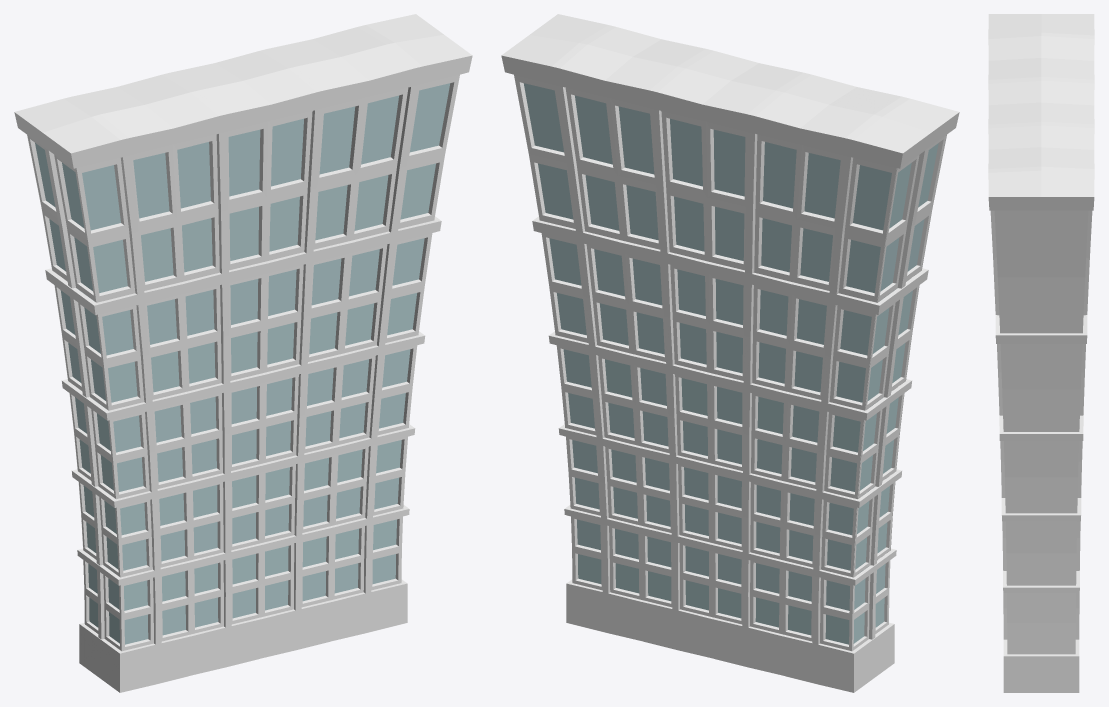
The model's file is Predio 3.fbx.
3 views of the same model, side by side, from view 1: azimuth 30°, elevation 25°; view 2: azimuth 150°, elevation 25°; view 3: azimuth 270°, elevation 25° (orthographic). The views are drawn at different scales.
Parts seen in each view (by area): view 1: Predio 3; view 2: Predio 3; view 3: Predio 3.
Part boxes in pixels (left/top/right/bottom): Predio 3: left=14, top=14, right=472, bottom=692; Predio 3: left=501, top=14, right=959, bottom=692; Predio 3: left=988, top=14, right=1094, bottom=692.
Size of the model in its own units: 960 by 1287 by 235.
